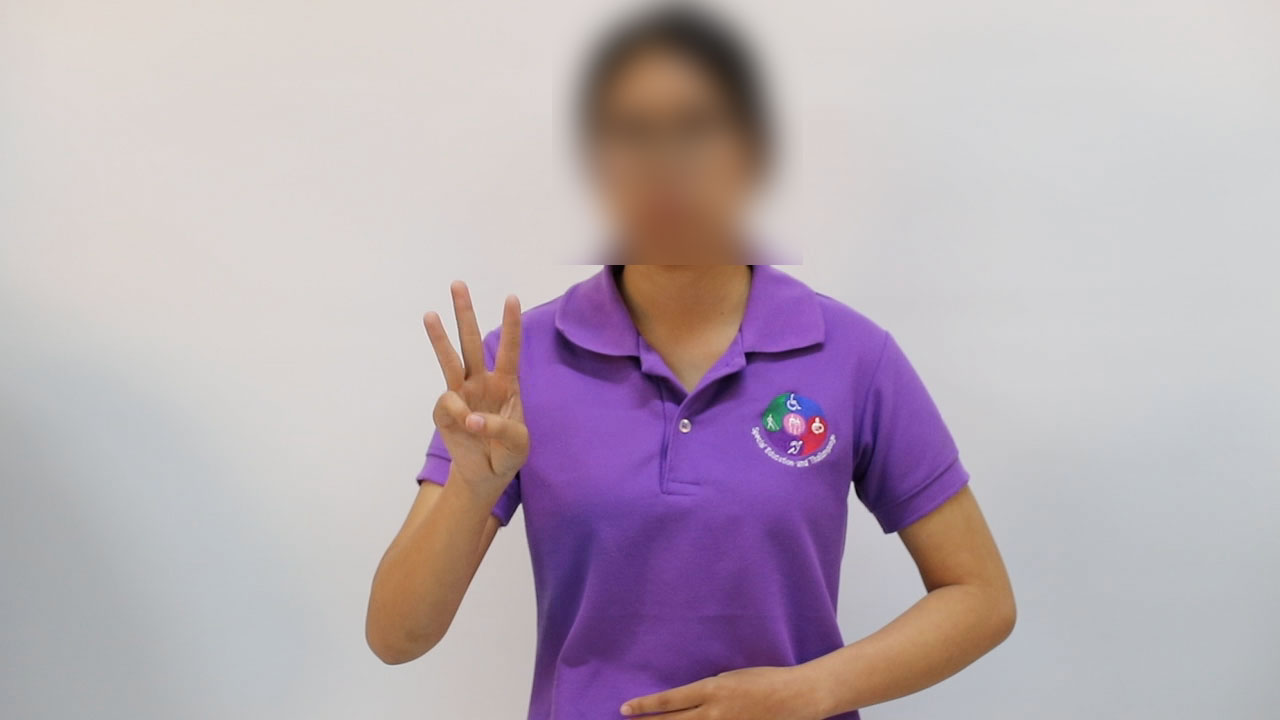wor: (407, 270, 538, 504)
